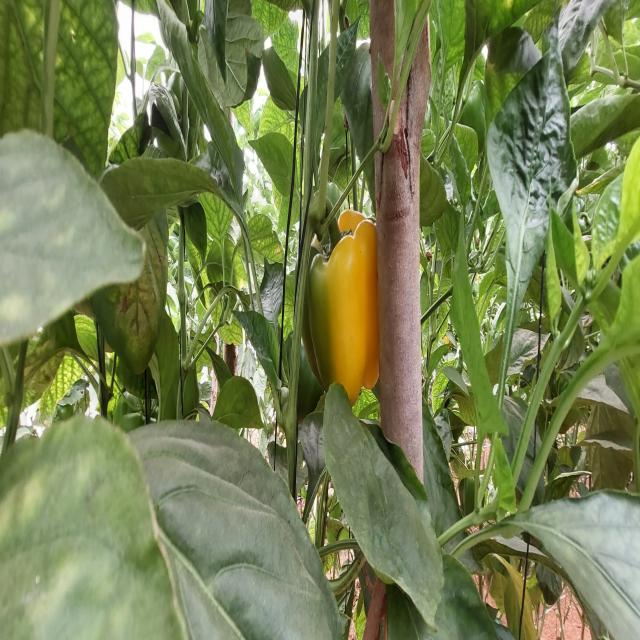GreenishYellow--Can-be-Harvested: (290, 201, 391, 419)
